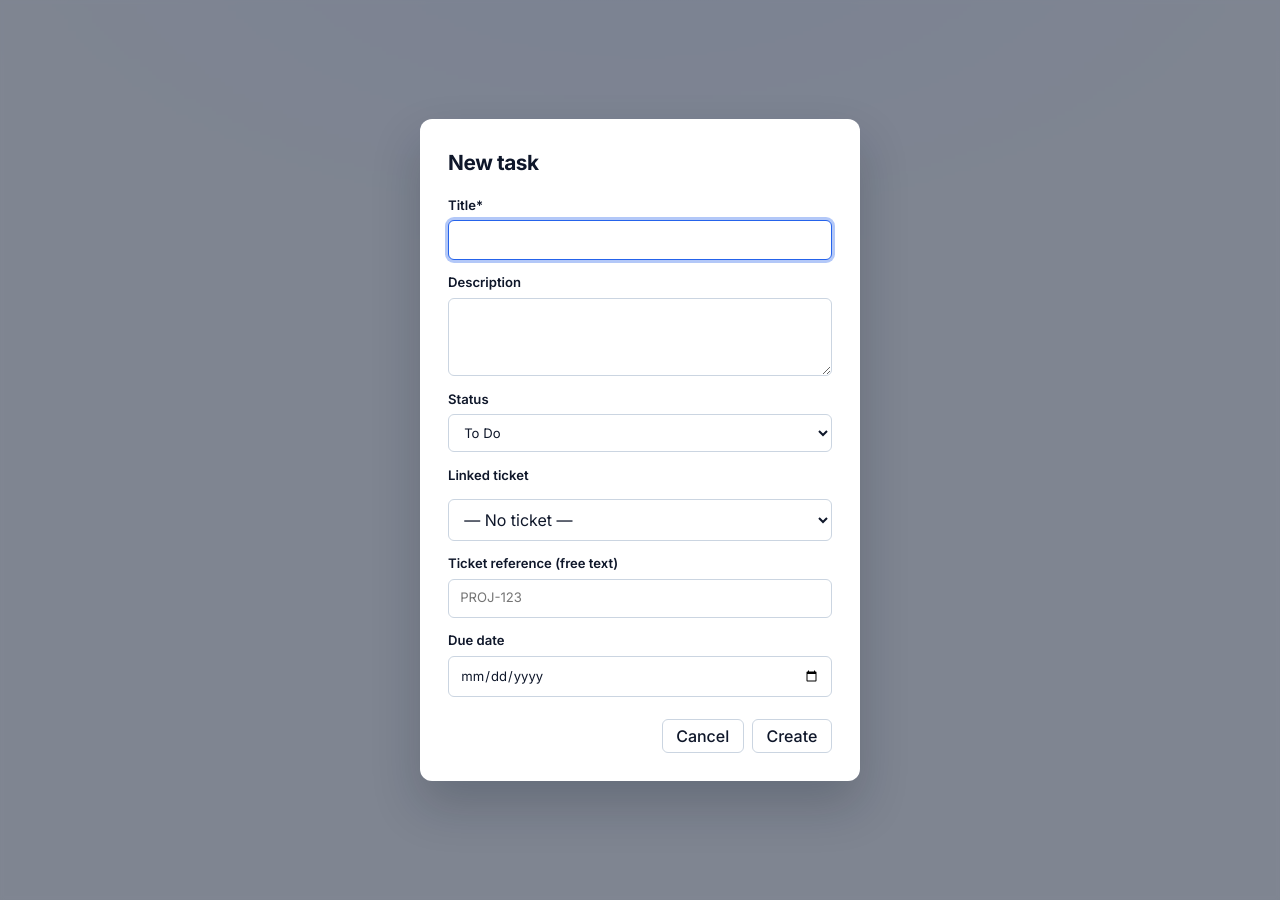
Test: TaskForm › blocks submit and shows an error when the title is empty
The width and height of the screenshot is (1280, 900).
Click the button "Create".
click(792, 736)  # box [752,719,832,753]
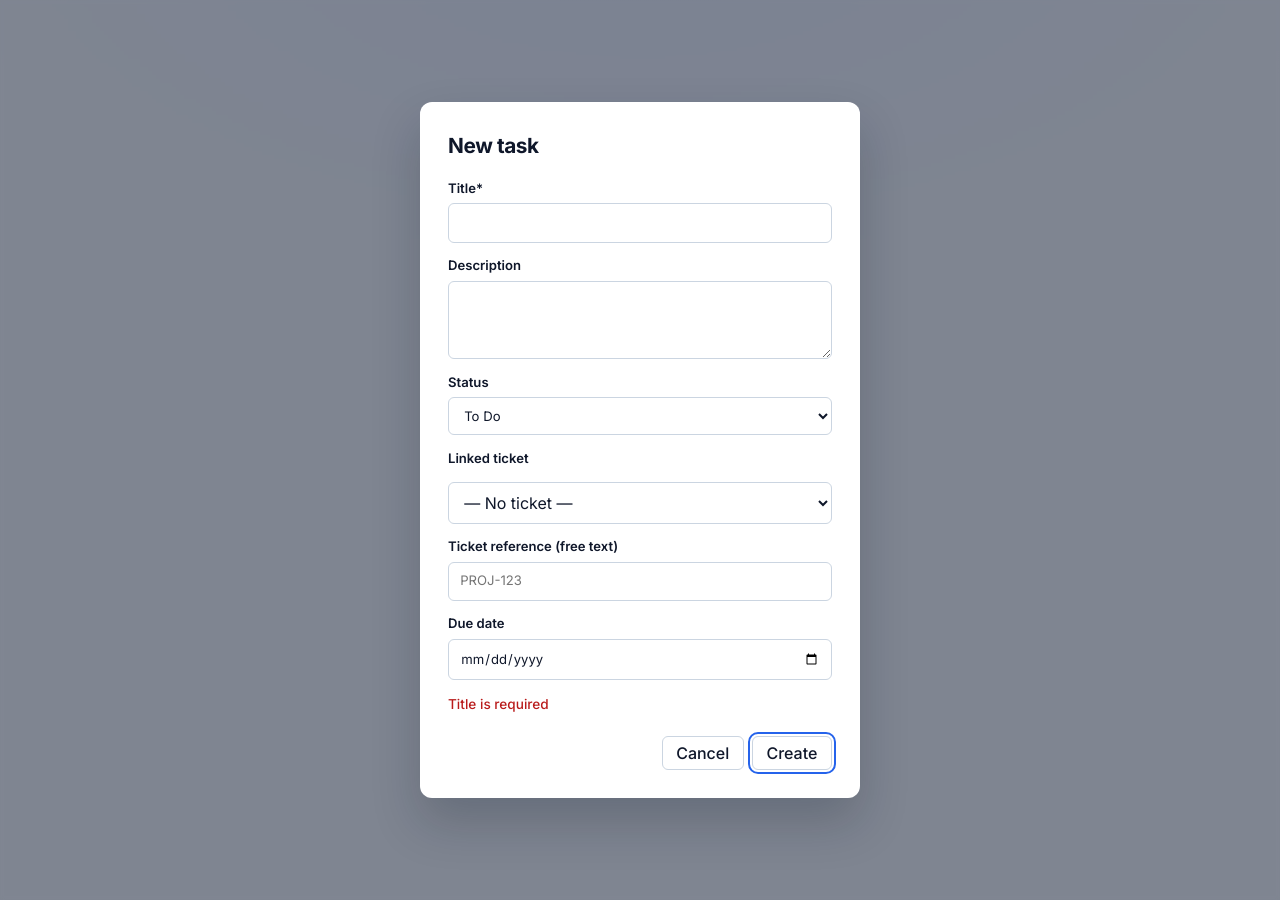
Check: the message reads "Title is required", box [448,696,549,712]
